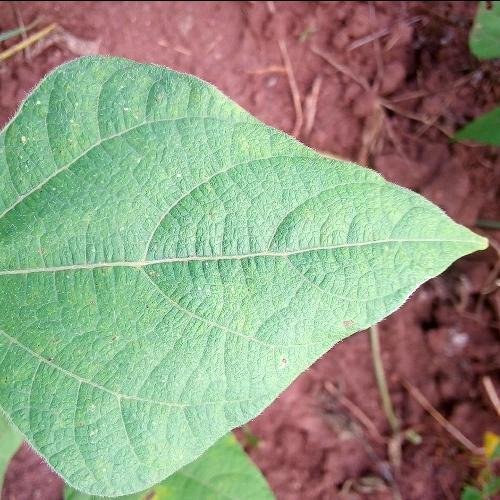hawar: (333, 310, 352, 333)
mozaik: (22, 108, 203, 436), (265, 350, 298, 379)
